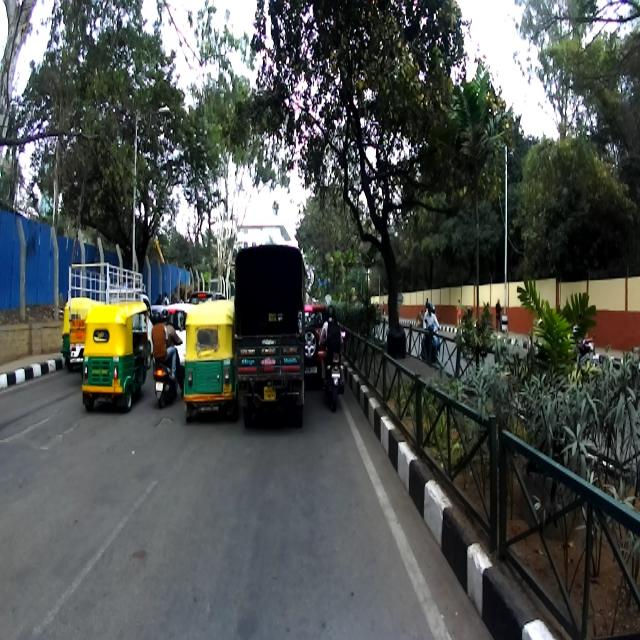autorickshaw: (80, 301, 150, 414), (182, 298, 240, 421)
motorcycle_TVS: (317, 327, 347, 411)
scooter: (152, 334, 182, 408), (420, 309, 440, 365)
